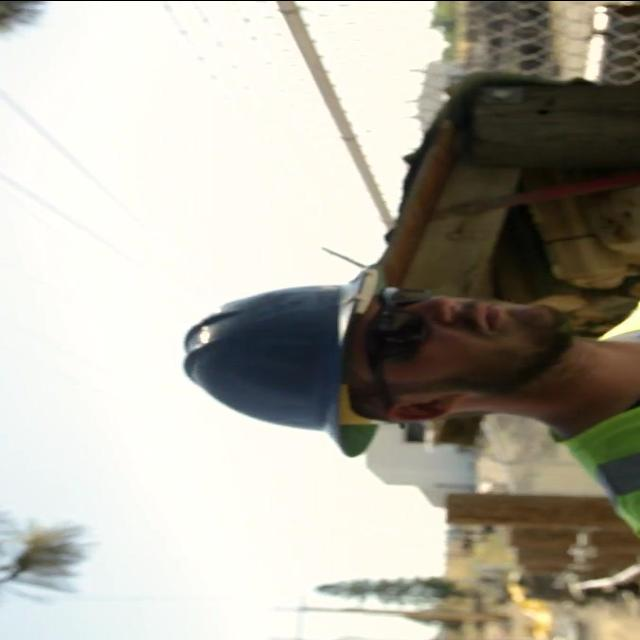helmet: (170, 251, 384, 469)
